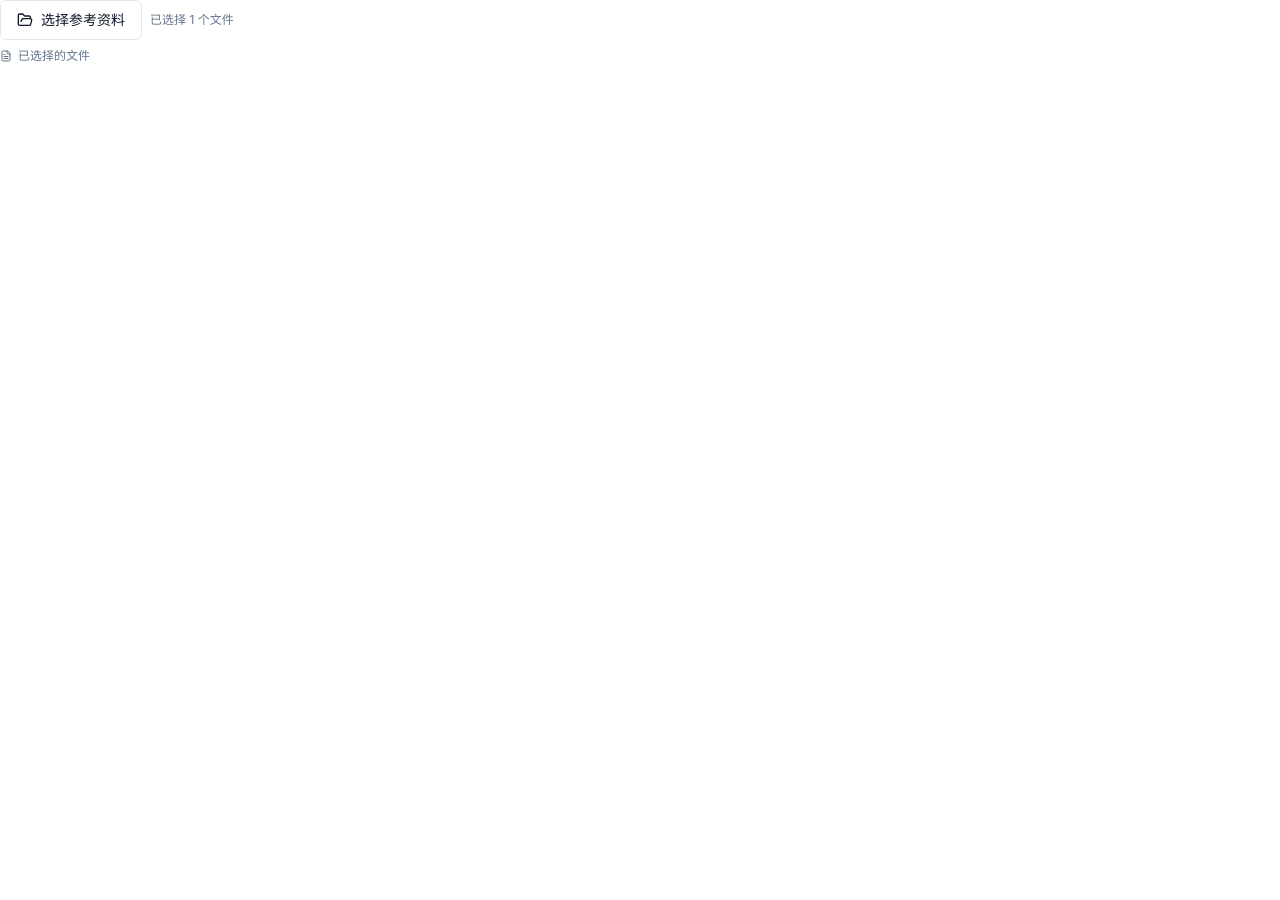
FilePicker › 已有选择时展示数量与文件名，再点可取消勾选
This screenshot has width=1280, height=900.
Later steps or results of the test are not shown.
Click the button "选择参考资料" at (71, 20), box [0,0,142,40]
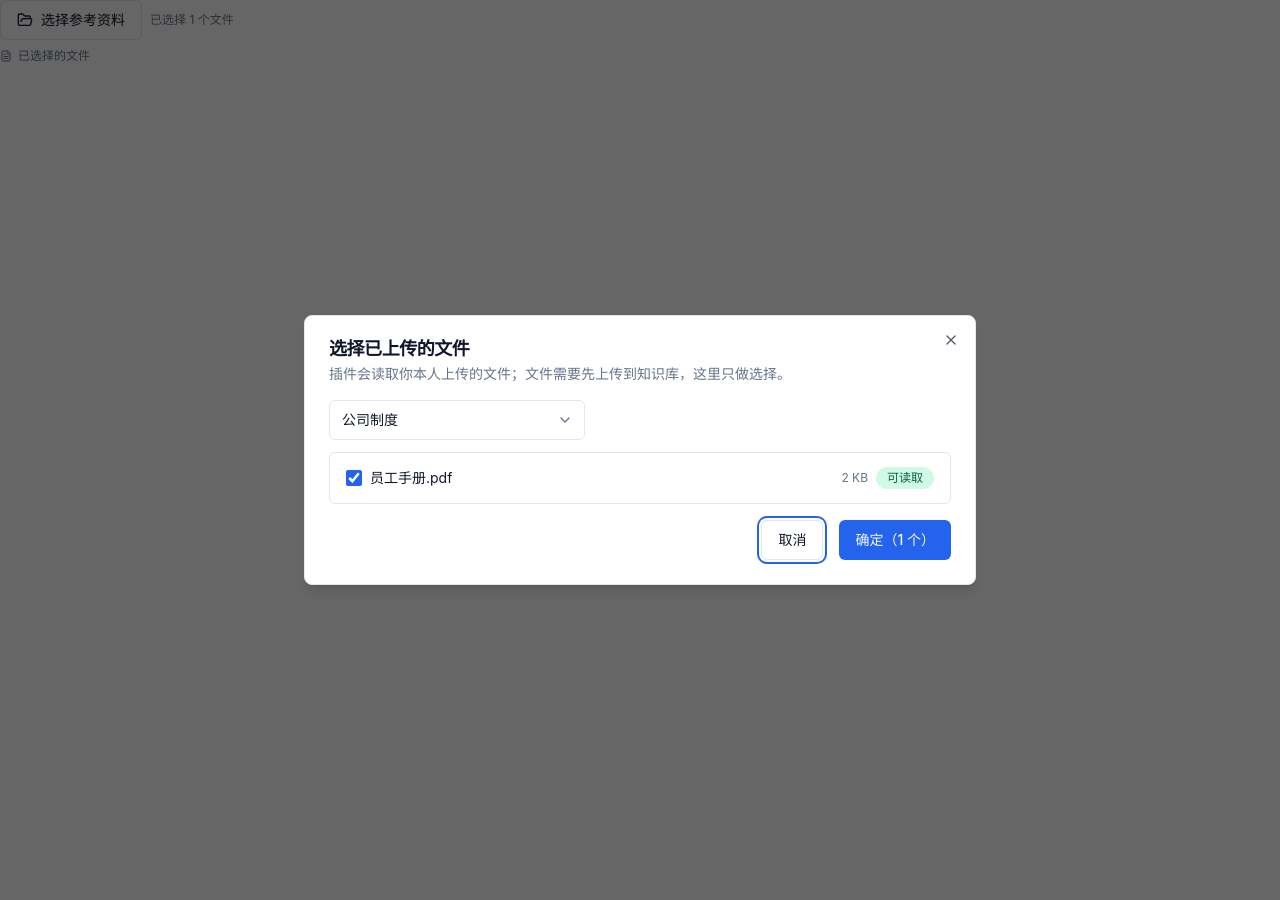
Result: the checkbox labelled "员工手册.pdf 2 KB 可读取" is checked at [346,470,362,486]
